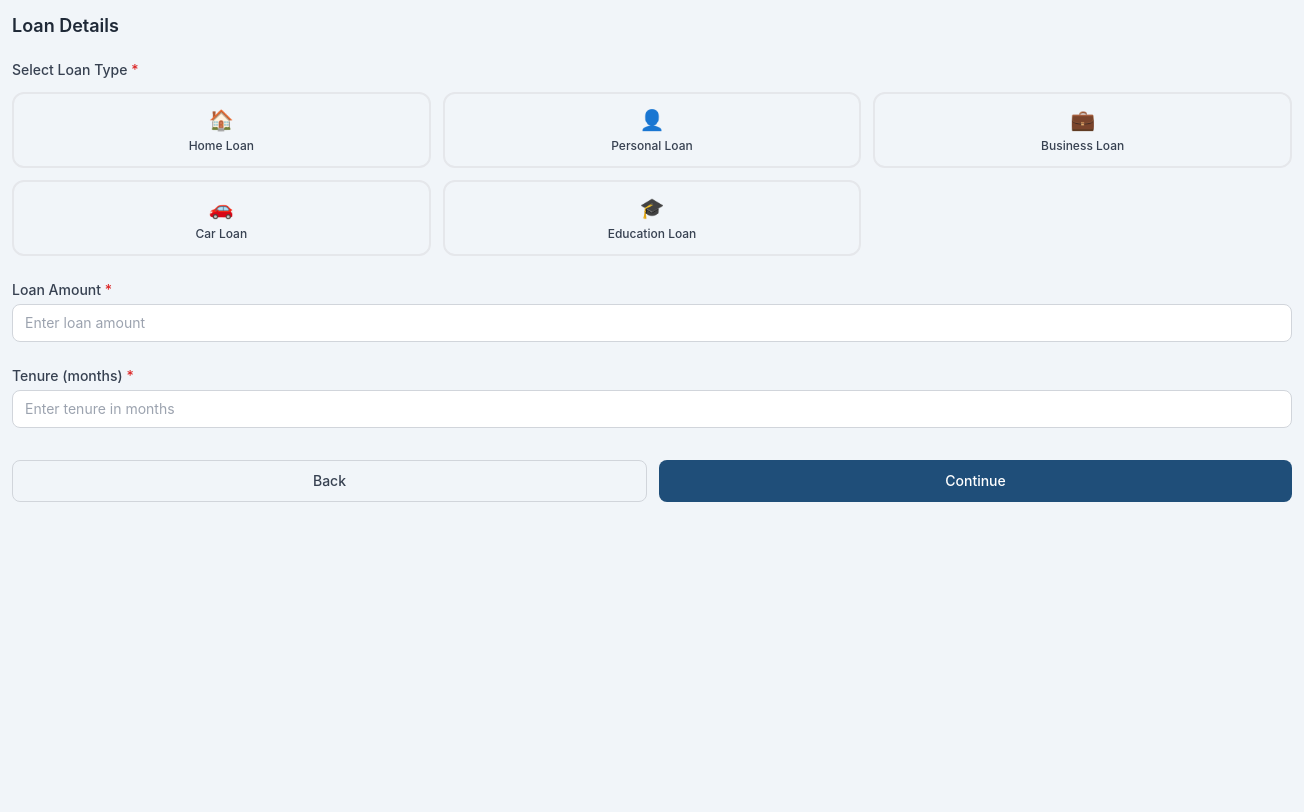
LoanDetails component › shows EMI card when loan amount, type and tenure are provided
The image size is (1304, 812).
Click the radio button with test id "loan-type-personal": (652, 130) [443,92,861,168]
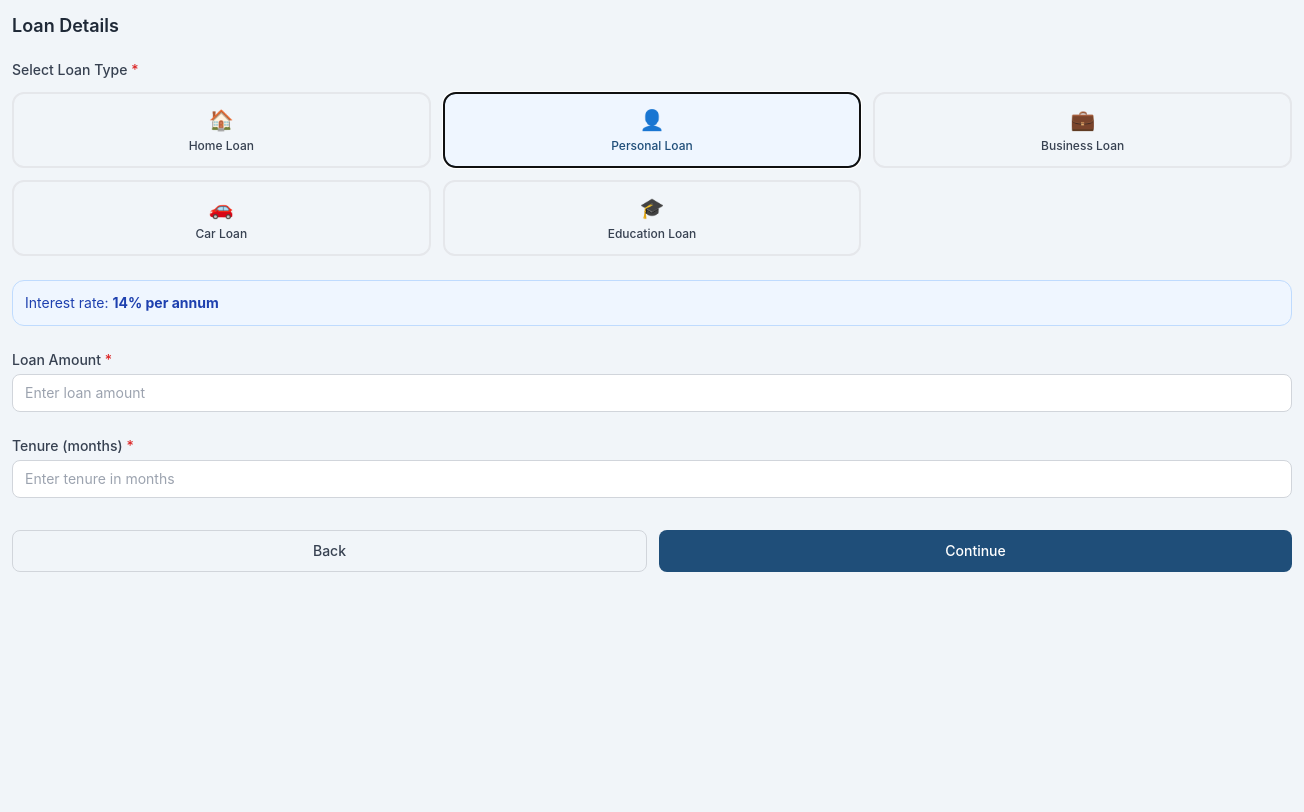
In the number field named "loanAmount": (652, 393) [12,374,1292,412], type "500000"
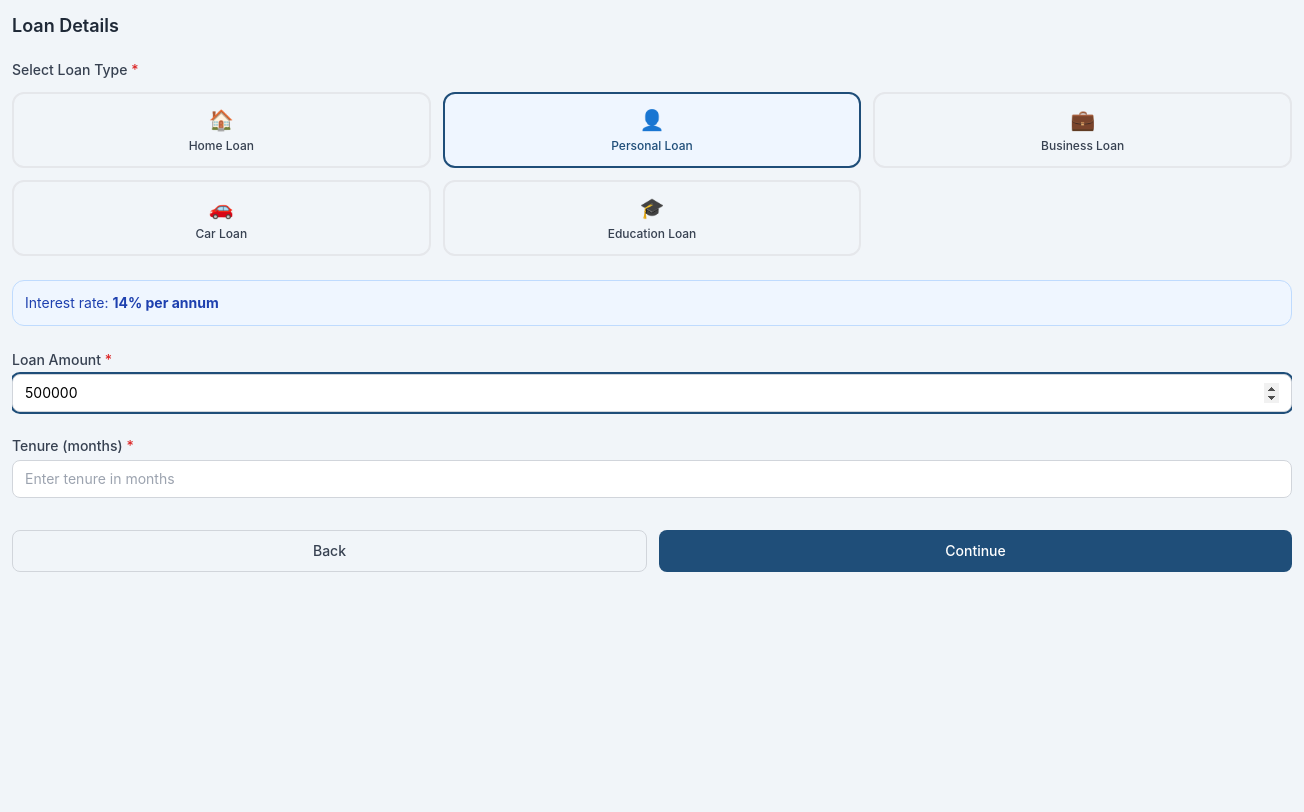
In the number field named "tenure": (652, 479) [12,460,1292,498], type "60"
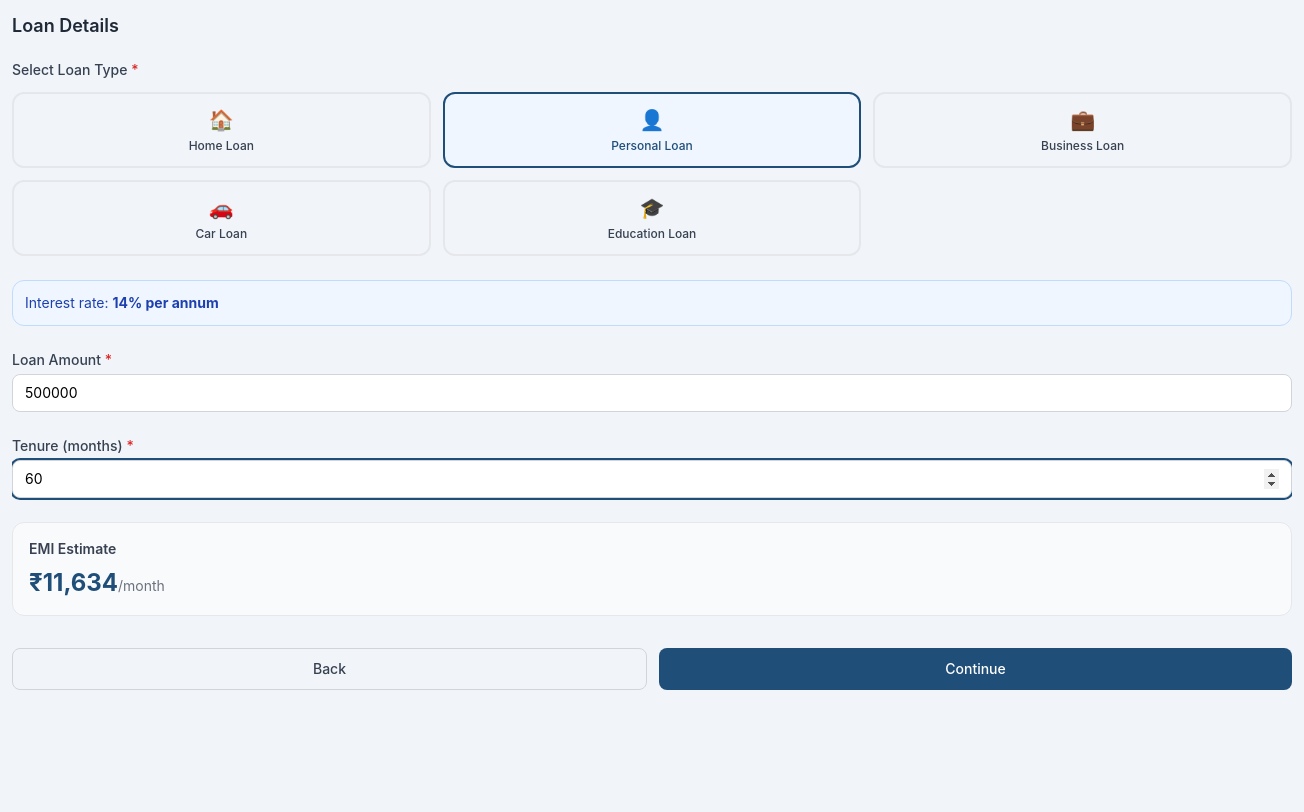
Now the element with test id "emi-card" is shown, box [12,522,1292,616]
